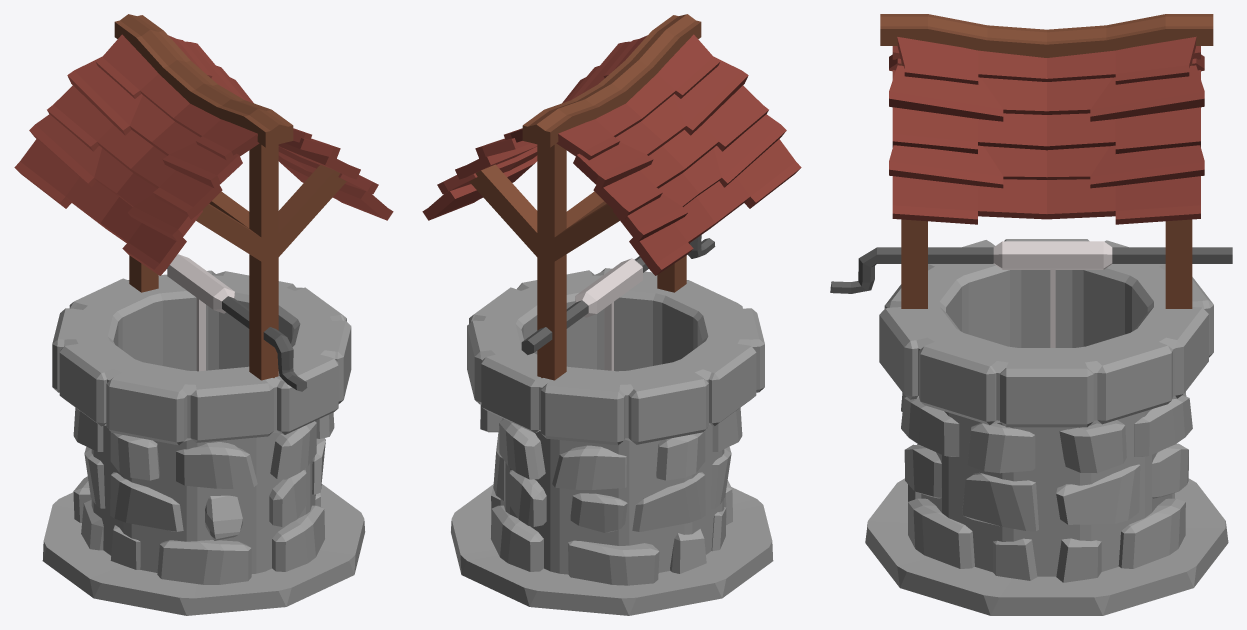
File: Well.glb
The picture shows the model from 3 angles, left to right: view 1: azimuth 30°, elevation 25°; view 2: azimuth 150°, elevation 25°; view 3: azimuth 270°, elevation 25°; orthographic projection. The views are drawn at different scales.
Visible parts, largest first — view 1: Well_Cylinder.002; view 2: Well_Cylinder.002; view 3: Well_Cylinder.002.
Part boxes in pixels (left/top/right/bottom): Well_Cylinder.002: left=14, top=14, right=393, bottom=615; Well_Cylinder.002: left=422, top=14, right=801, bottom=615; Well_Cylinder.002: left=830, top=14, right=1232, bottom=615.
Size of the model in its own units: 1.28 by 2.15 by 1.49.
1 material, 1 textured.
